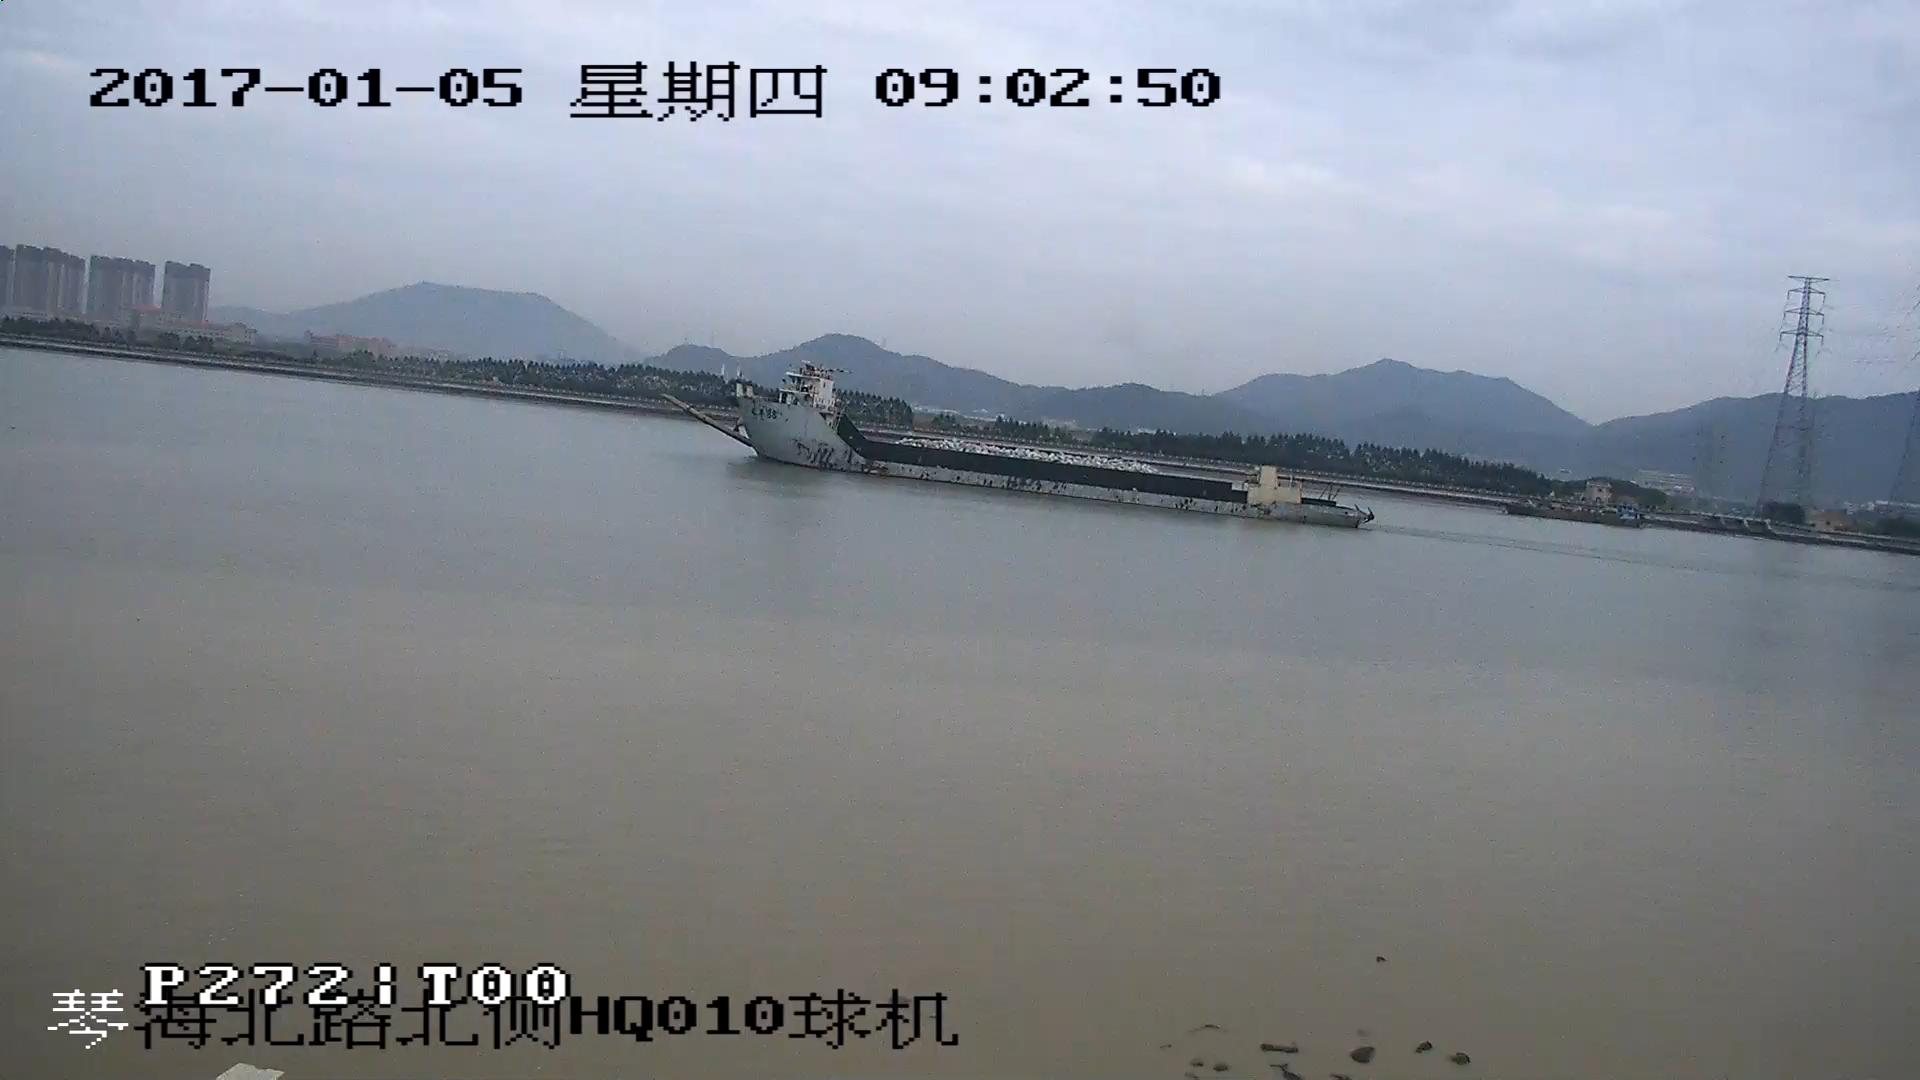bulk cargo carrier: (675, 372, 1360, 526)
